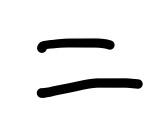eqv: (36, 37, 143, 99)
